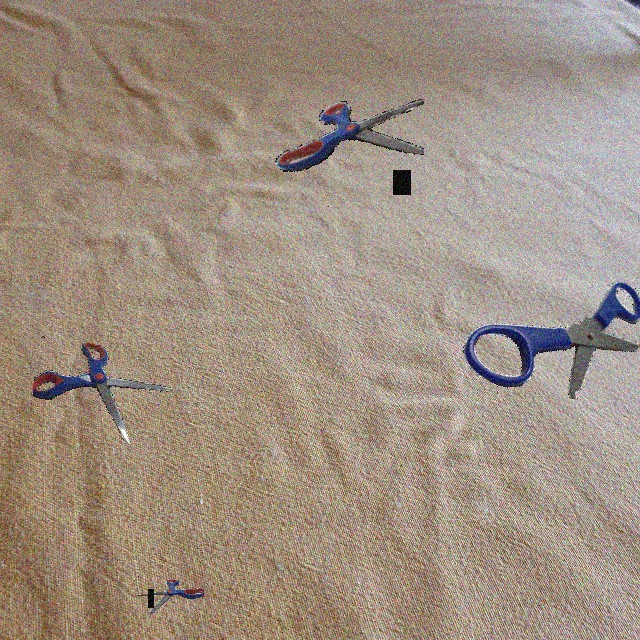scissors: (463, 281, 640, 399), (275, 99, 424, 207), (33, 336, 173, 444), (137, 579, 204, 614)
